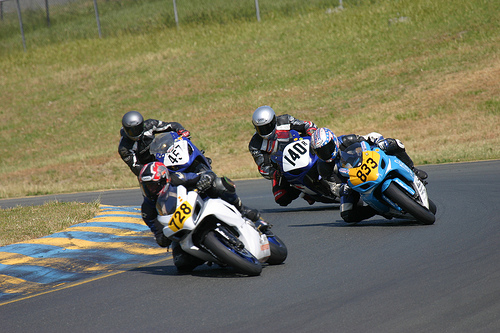helmet: (139, 160, 171, 191), (248, 109, 280, 136), (120, 110, 146, 139), (309, 131, 337, 156)
